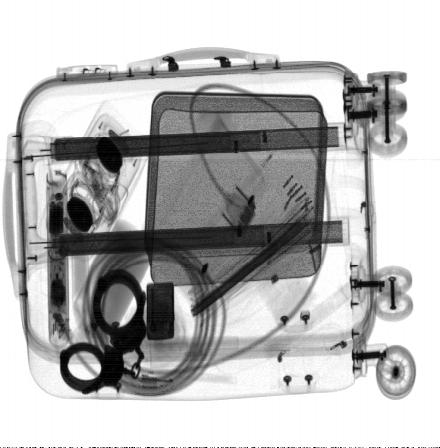Baton: (47, 169, 70, 353)
HandCuffs: (59, 269, 148, 397)
Lighter: (146, 282, 174, 340)
